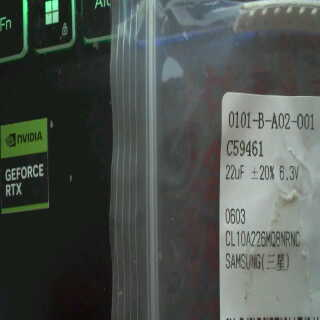22uF: (223, 163, 248, 183)
